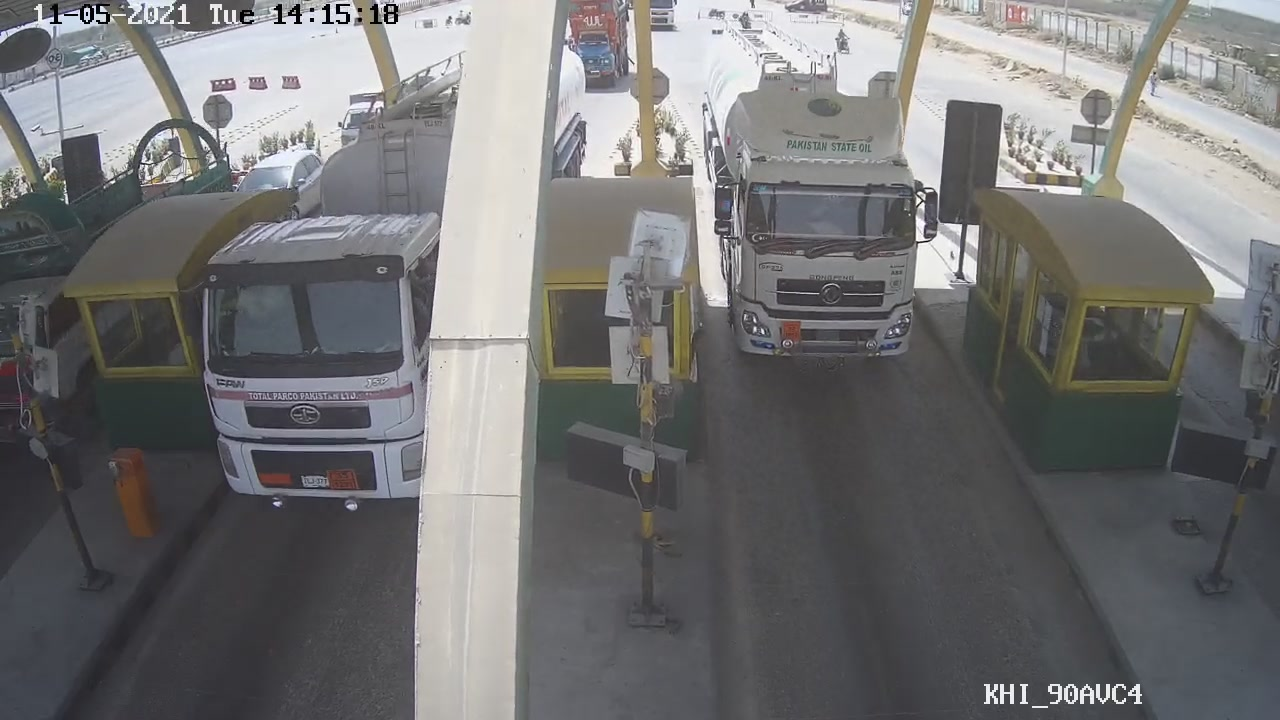F6: (705, 31, 938, 380)
